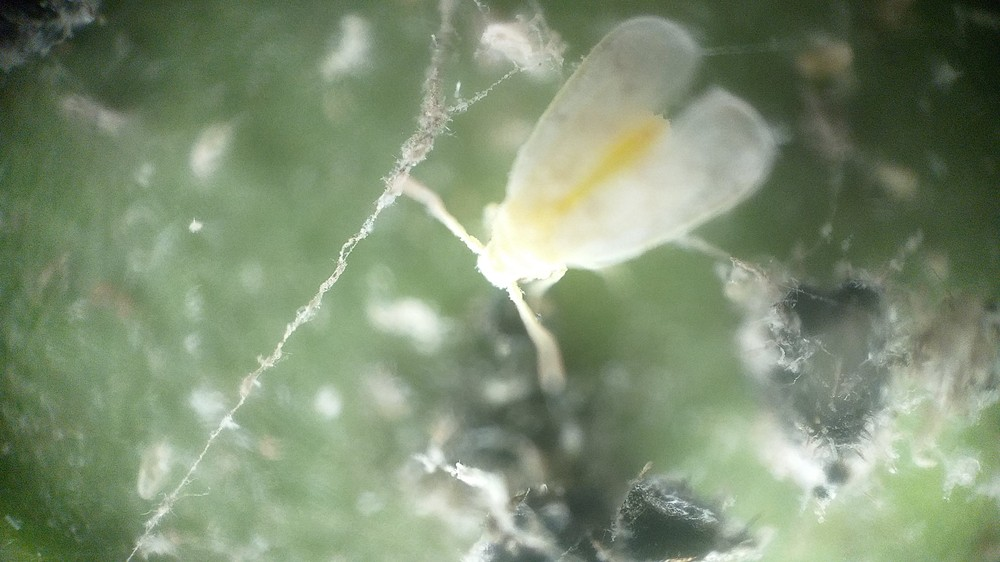Mosca Blanca: (397, 17, 795, 398)
